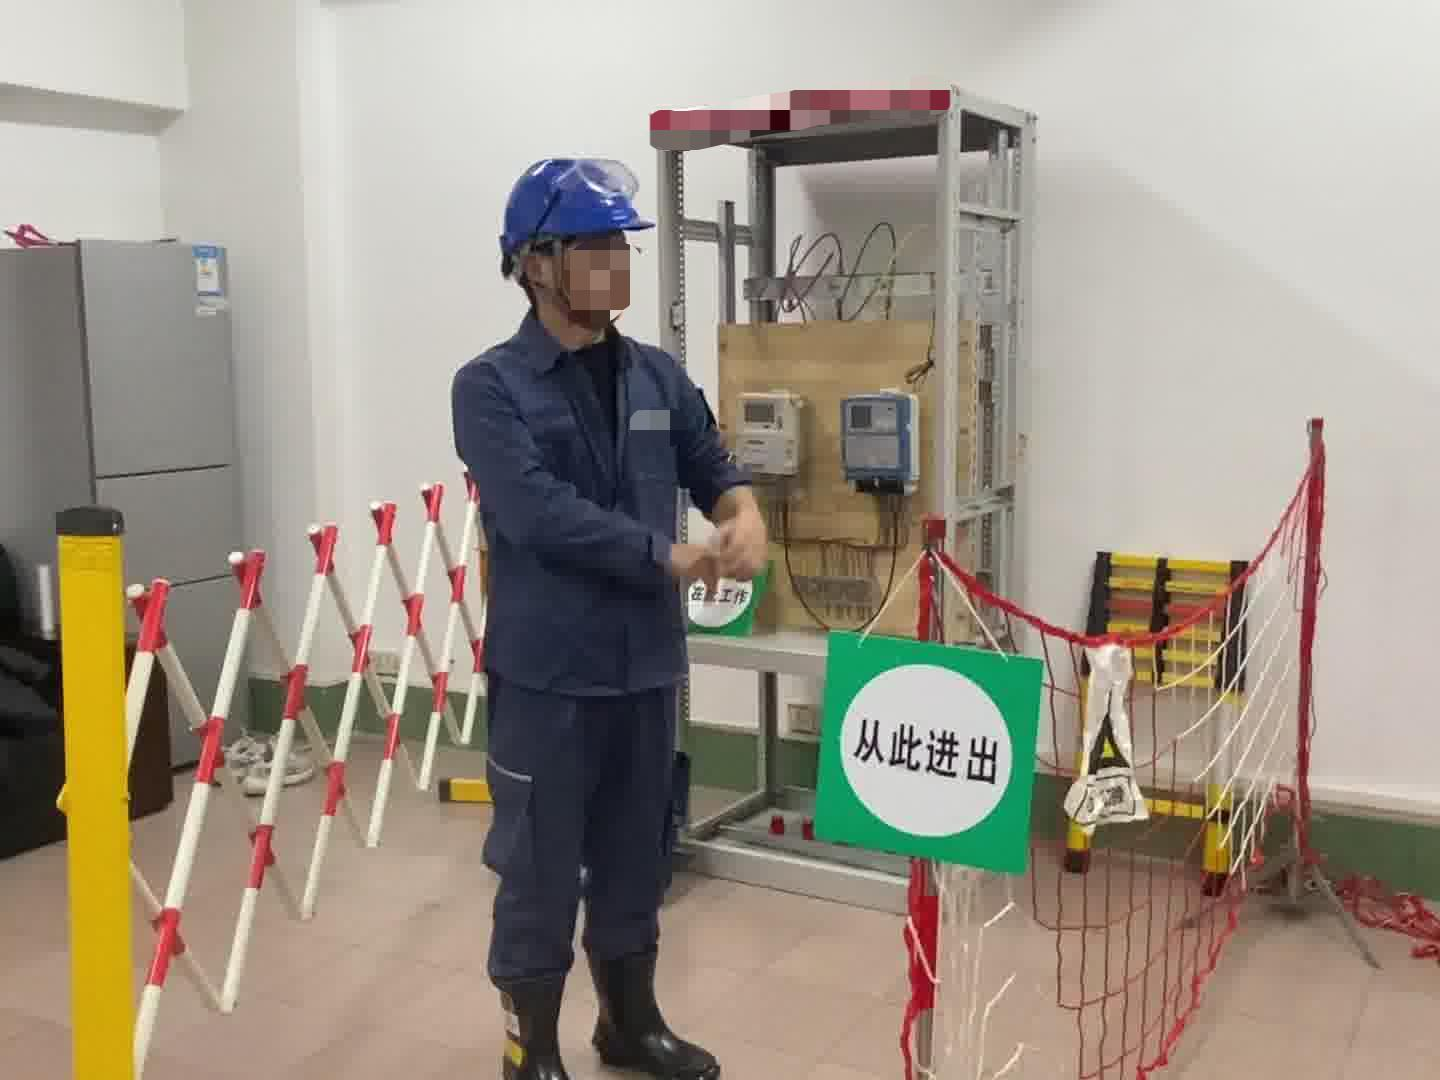halt: (497, 157, 658, 339)
inear: (517, 241, 581, 317)
